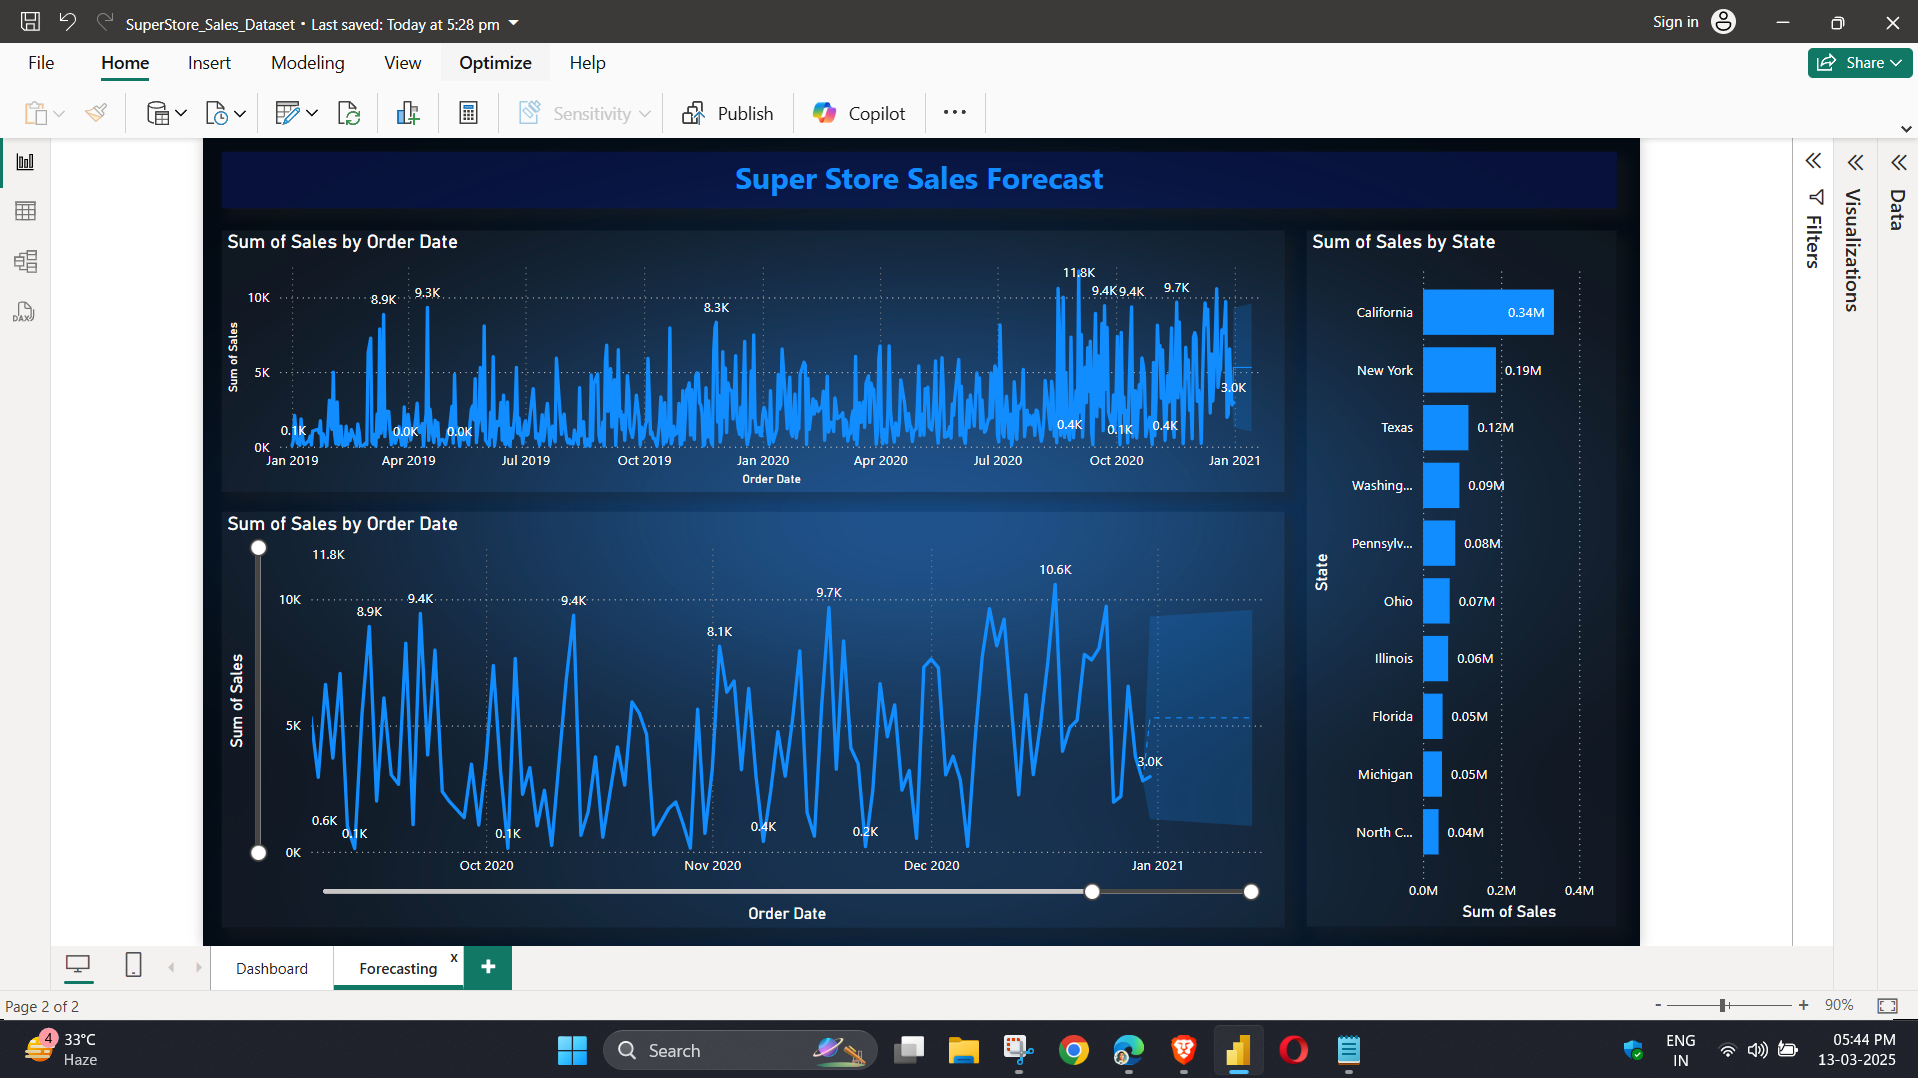

The page's visual inventory and layout, read from the dashboard file:
{"tool":"powerbi","page":{"name":"Forecasting","canvas":[1280,720],"ordinal":1},"visuals":[{"type":"lineChart","fields":{"Y":["Sum(SuperStore_Sales_Dataset.Sales)"],"Category":["SuperStore_Sales_Dataset.Order Date"]},"box":[16.2,82.5,946.2,232.5],"z":0},{"type":"lineChart","fields":{"Y":["Sum(SuperStore_Sales_Dataset.Sales)"],"Category":["SuperStore_Sales_Dataset.Order Date"]},"box":[16.2,332.5,946.2,370],"z":1000},{"type":"textbox","box":[16.2,12.5,1242.5,50],"z":2000},{"type":"barChart","fields":{"Category":["SuperStore_Sales_Dataset.State"],"Y":["Sum(SuperStore_Sales_Dataset.Sales)"]},"box":[982.5,82.5,276.2,620],"z":2001}]}

Visuals, with their boxes on the page's 1280x720 design canvas (x1, y1, x2, y2). These are canvas units, not pixel positions in the 1918x1078 screenshot, which may show the page scaled, cropped or inside an application window:
lineChart - Sum(SuperStore_Sales_Dataset.Sales) x SuperStore_Sales_Dataset.Order Date: (left=16, top=82, right=962, bottom=315)
lineChart - Sum(SuperStore_Sales_Dataset.Sales) x SuperStore_Sales_Dataset.Order Date: (left=16, top=332, right=962, bottom=702)
textbox: (left=16, top=12, right=1259, bottom=62)
barChart - SuperStore_Sales_Dataset.State x Sum(SuperStore_Sales_Dataset.Sales): (left=982, top=82, right=1259, bottom=702)
